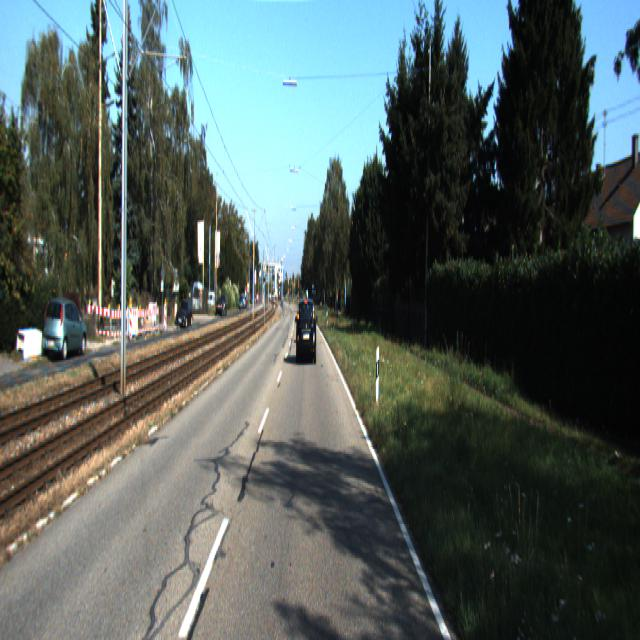Car: (42, 300, 89, 364), (296, 295, 317, 364), (176, 299, 193, 329)
